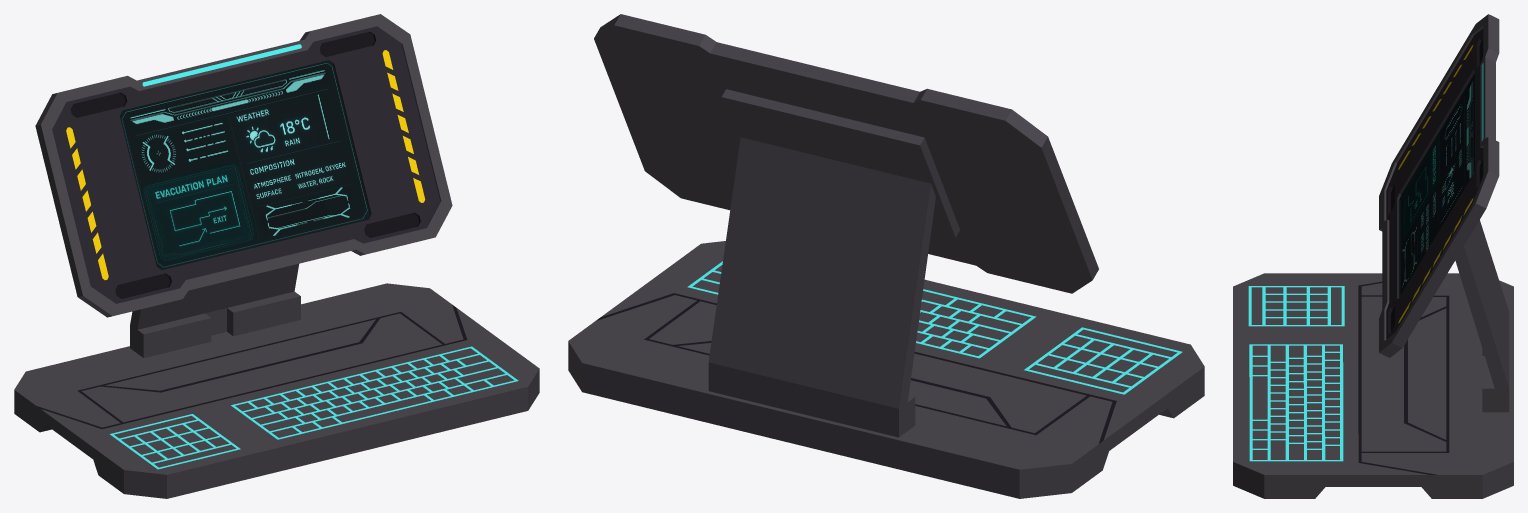
The model's file is SM_Props_Device_08.fbx.
3 renders of one model, left to right at view 1: azimuth 30°, elevation 25°; view 2: azimuth 150°, elevation 25°; view 3: azimuth 270°, elevation 25°, orthographic. The views are drawn at different scales.
Parts seen in each view (by area): view 1: SM_Props_Device_08; view 2: SM_Props_Device_08; view 3: SM_Props_Device_08.
Part boxes in pixels (x1,y1,x2,y2): SM_Props_Device_08: (14,14,539,498); SM_Props_Device_08: (568,14,1204,498); SM_Props_Device_08: (1233,14,1513,498).
Bounding box in the file's own units: 0.45 × 0.318 × 0.2647.
